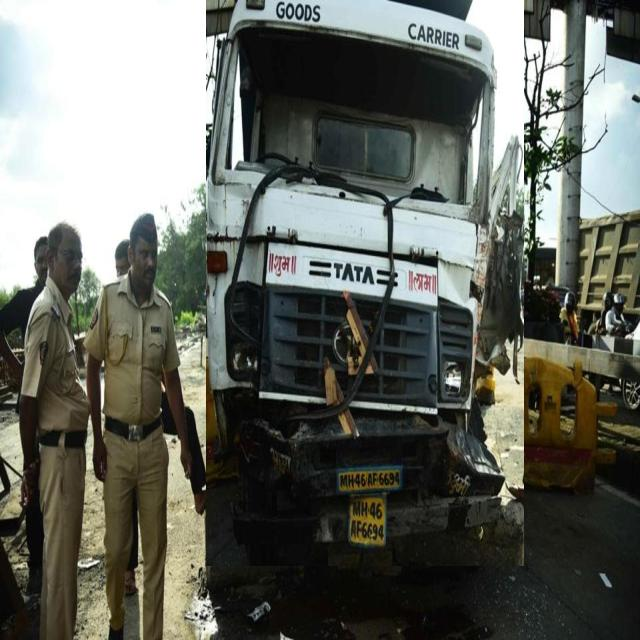accident: (206, 0, 524, 566)
